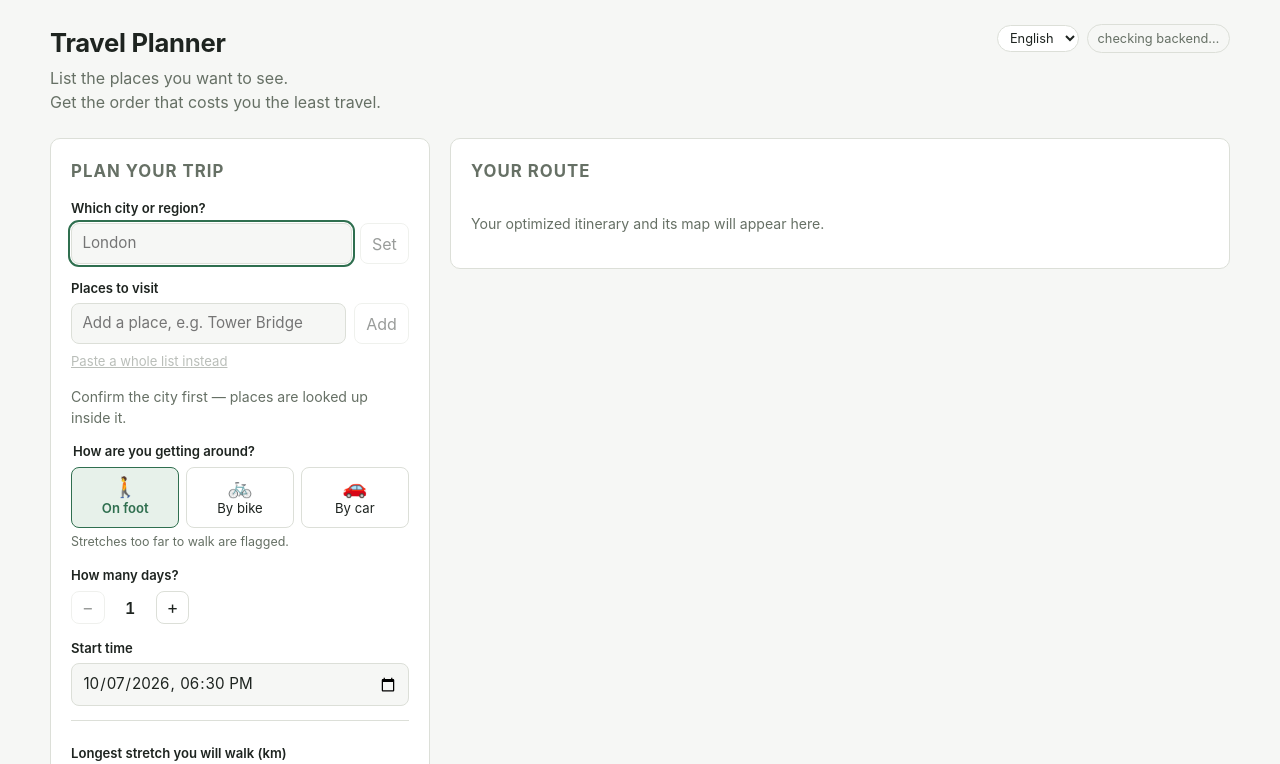
Test case: the language selector shows the current language and switches on change
Select "Italiano" in the dropdown named "switch language" at [1038, 39], box [997, 25, 1079, 52]
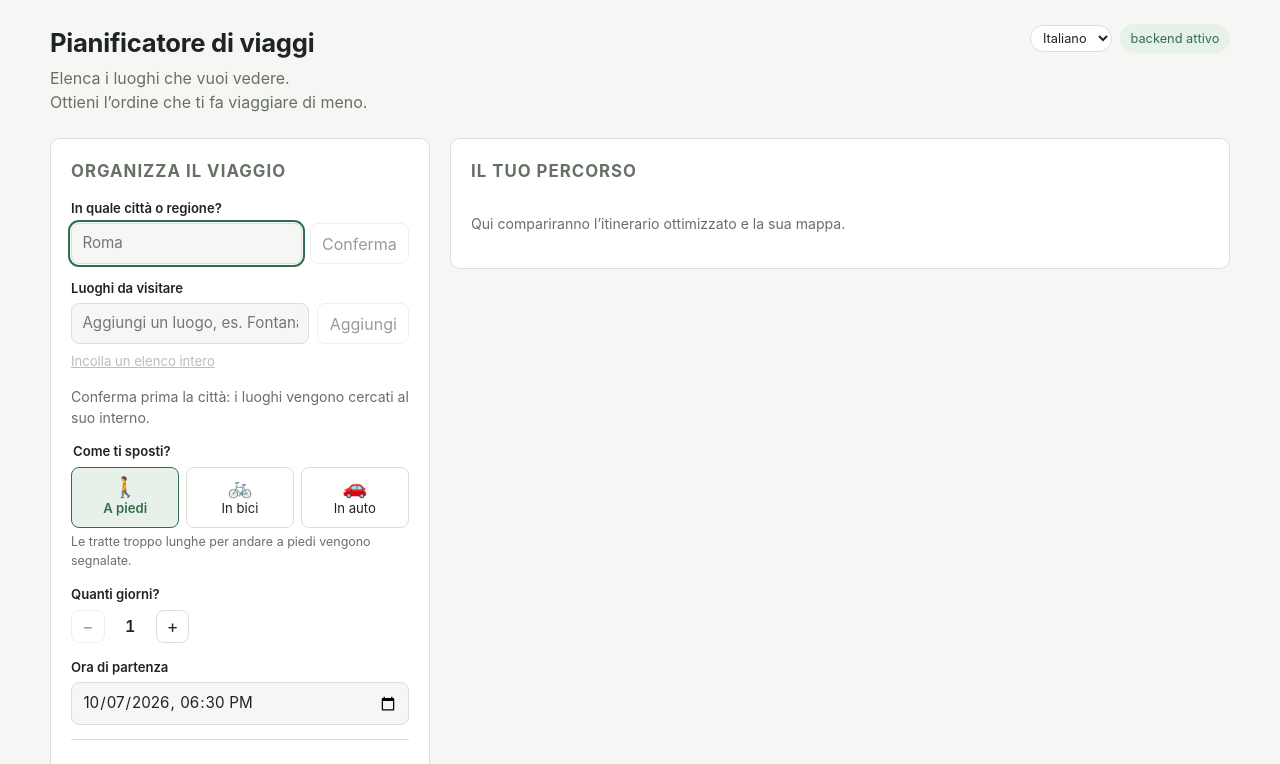
Check: the text "In quale città o regione?" is shown, box [71, 200, 222, 216]
Select "English" in the dropdown named "cambia lingua" at [1071, 39], box [1030, 25, 1112, 52]
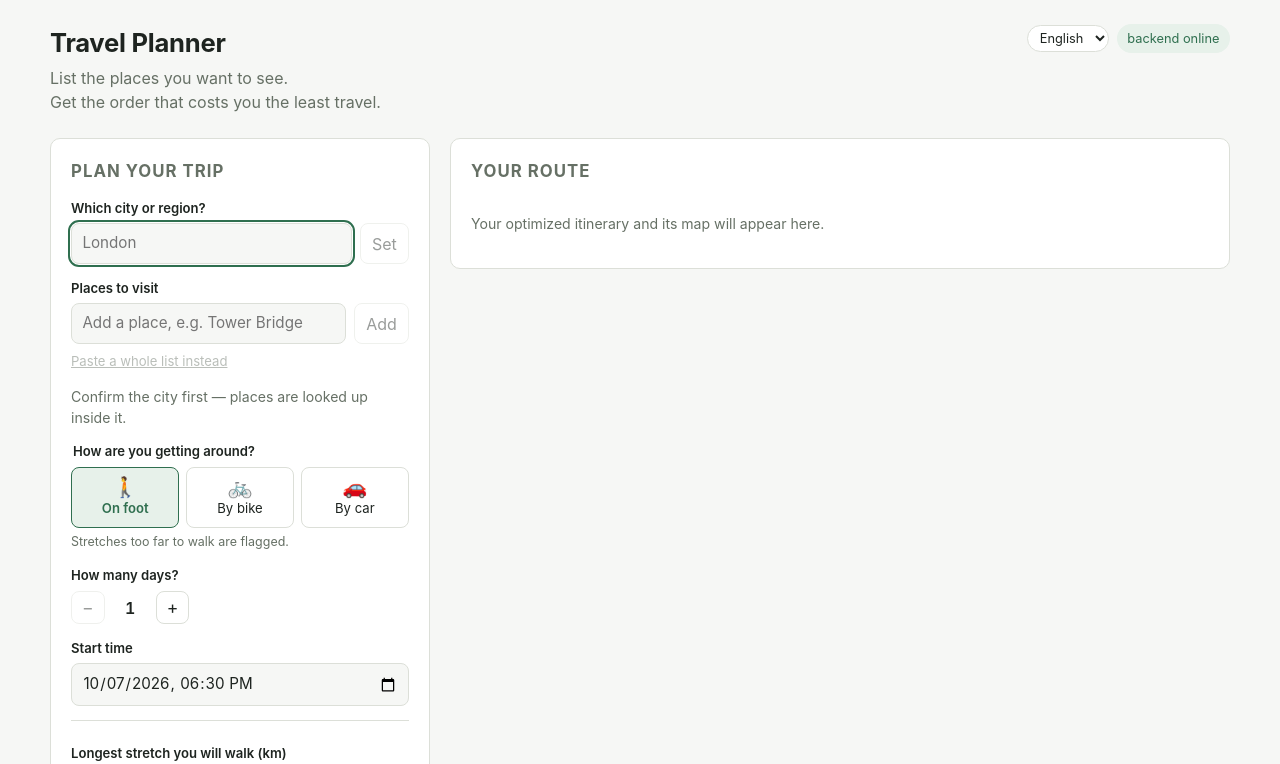
Check: the text "Which city or region?" is shown, box [71, 200, 206, 216]
